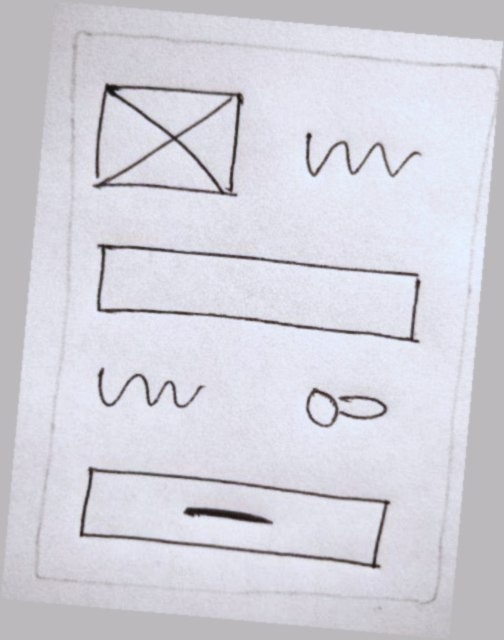button: (70, 455, 396, 579)
image: (82, 70, 256, 216)
switch: (290, 377, 404, 444)
text: (291, 124, 430, 196), (83, 357, 212, 425)
text_input: (85, 234, 432, 360)
